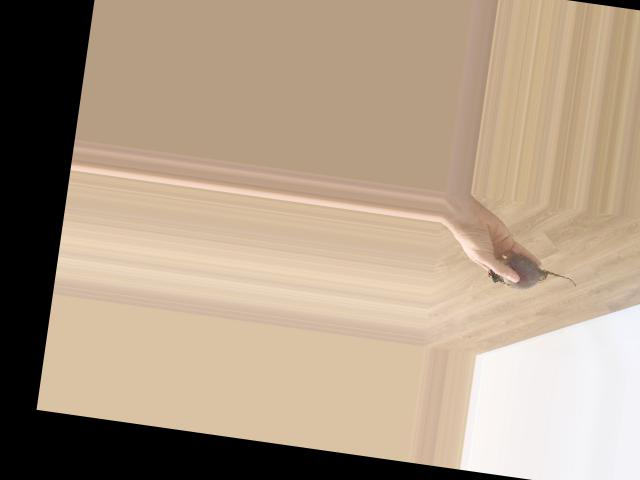beet: (486, 252, 580, 296)
